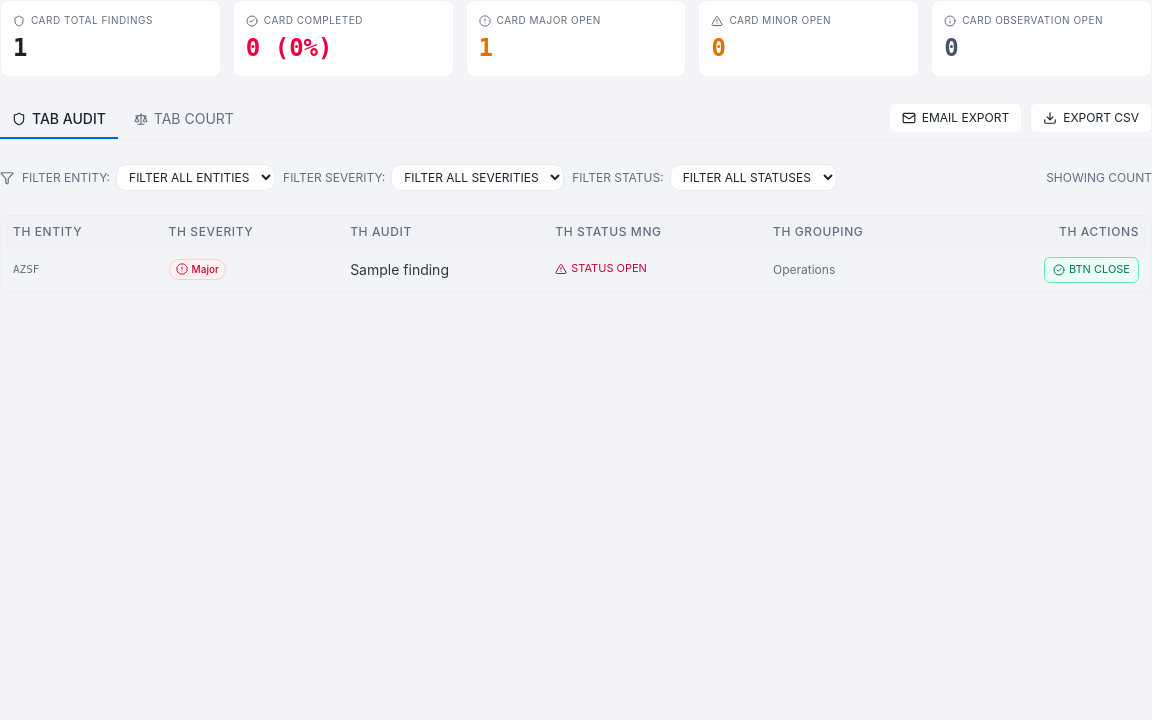
Test case: ComplianceHub close/reopen toggle › Phase 8 E2 — clicking audit text opens the drill-down modal
Click the button with test id "finding-drilldown-AZSEKER-AZSF-0" at point(400, 270), box [350,260,449,280]
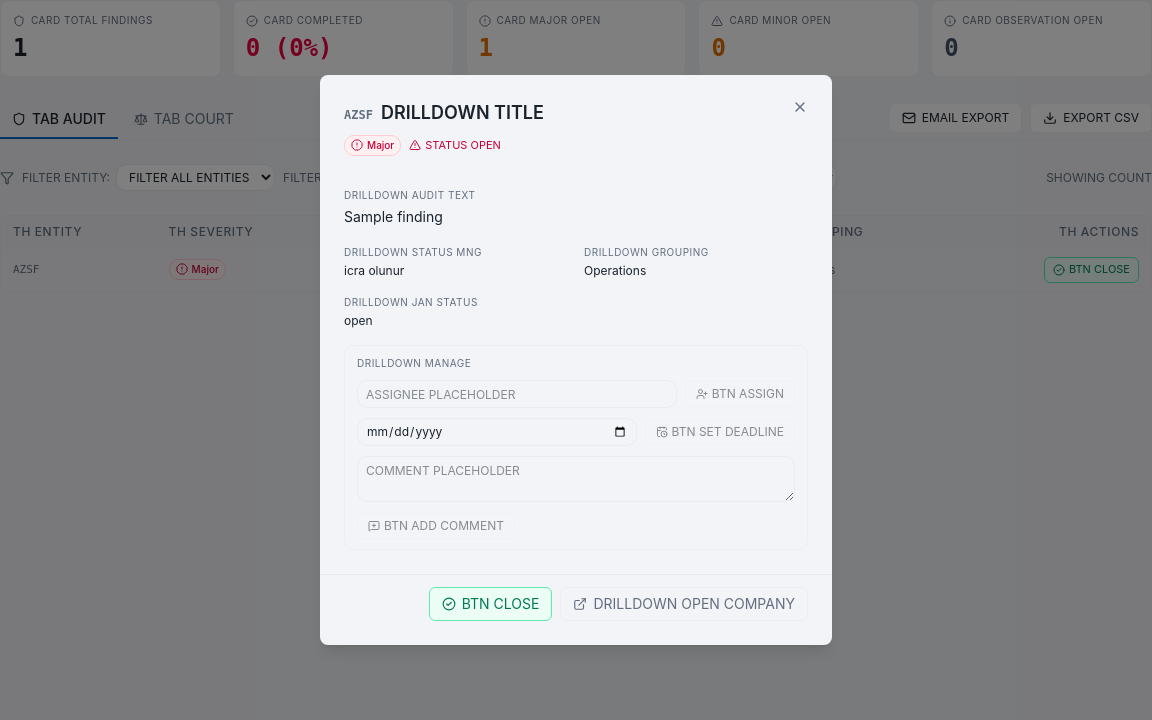
Check: the button with test id "drilldown-toggle" is shown, box [429,587,552,621]
Check: the element with test id "drilldown-toggle" is shown, box [320,574,832,645]
